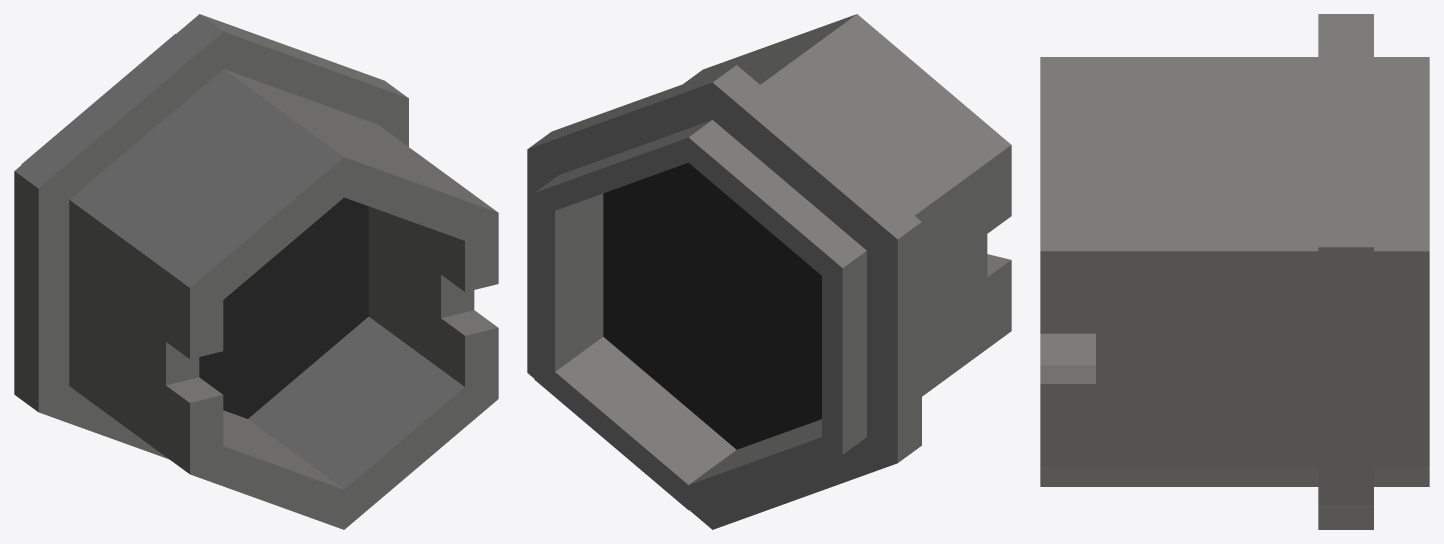
The model's file is Muzzle_ShotGun_Shoke_A.fbx.
3 views of the same model, side by side, from view 1: azimuth 30°, elevation 25°; view 2: azimuth 150°, elevation 25°; view 3: azimuth 270°, elevation 25° (orthographic). The views are drawn at different scales.
Parts seen in each view (by area): view 1: Muzzle_ShotGun_Shoke_A; view 2: Muzzle_ShotGun_Shoke_A; view 3: Muzzle_ShotGun_Shoke_A.
Boxes of the visible parts, x1,y1,x2,y2 form: Muzzle_ShotGun_Shoke_A: [14, 14, 498, 529]; Muzzle_ShotGun_Shoke_A: [527, 14, 1011, 529]; Muzzle_ShotGun_Shoke_A: [1040, 14, 1429, 529].
Size of the model in its own units: 0.0222 by 0.0256 by 0.0175.
